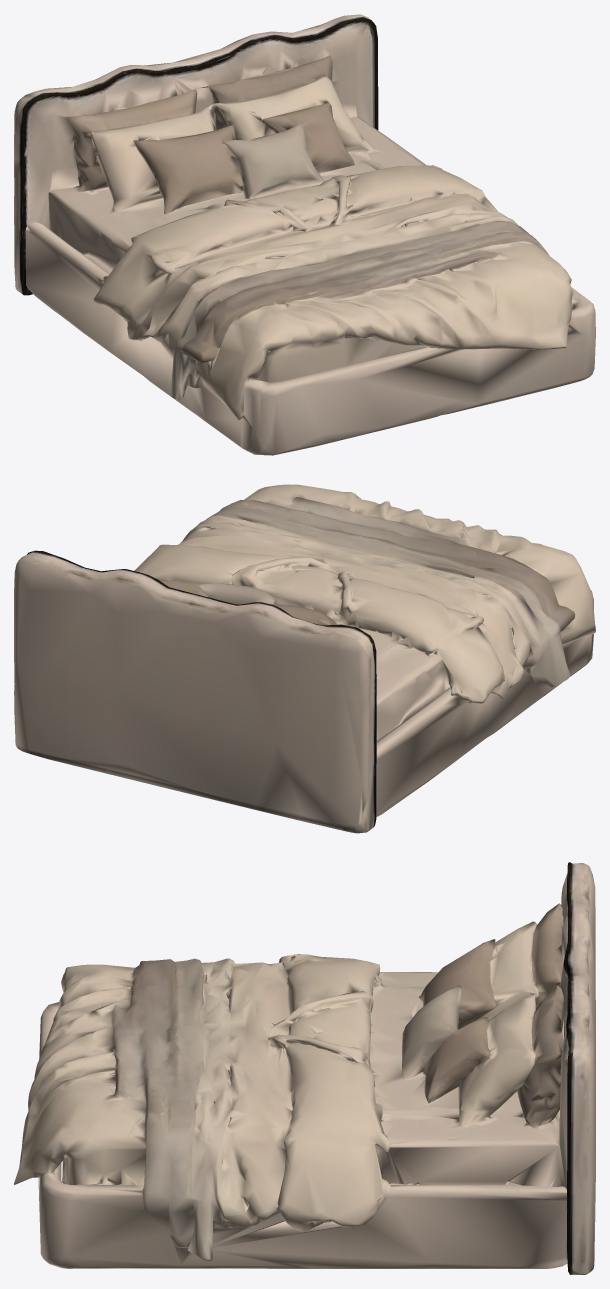
The model's file is hAVAFGpmW4CzYrh2Kj9bJ.glb.
3 views of the same model, one above another, from view 1: azimuth 30°, elevation 25°; view 2: azimuth 150°, elevation 25°; view 3: azimuth 270°, elevation 25° (orthographic). The views are drawn at different scales.
Visible parts, largest first — view 1: geometry_0; view 2: geometry_0; view 3: geometry_0.
Part boxes in pixels (<box>): geometry_0: <box>14,14,595,455</box>; geometry_0: <box>14,484,595,833</box>; geometry_0: <box>14,862,595,1274</box>.
Size of the model in its own units: 0.8933 by 0.4352 by 1.
1 material, 1 textured.
